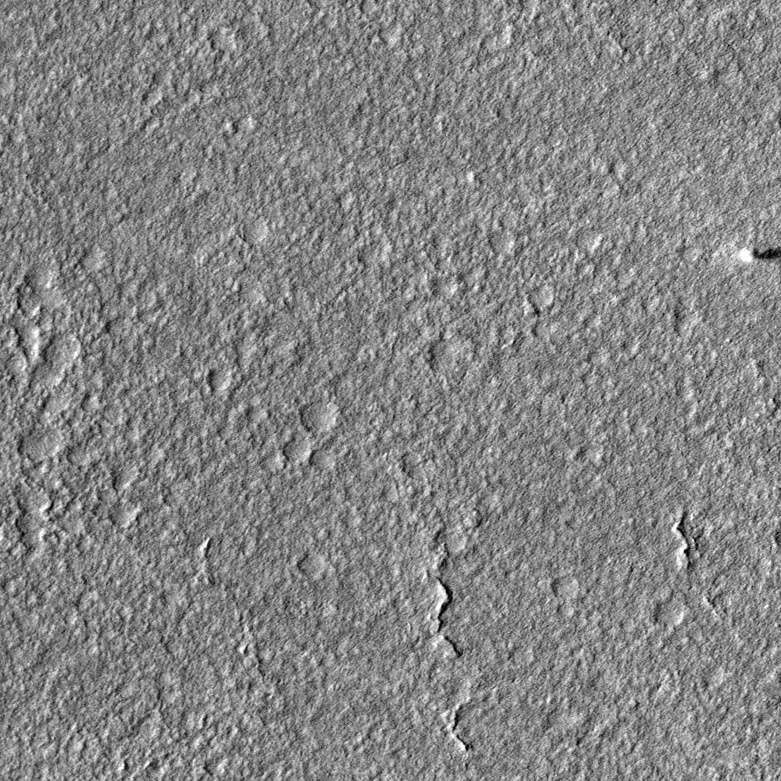dust_devil: (736, 244, 781, 266)
